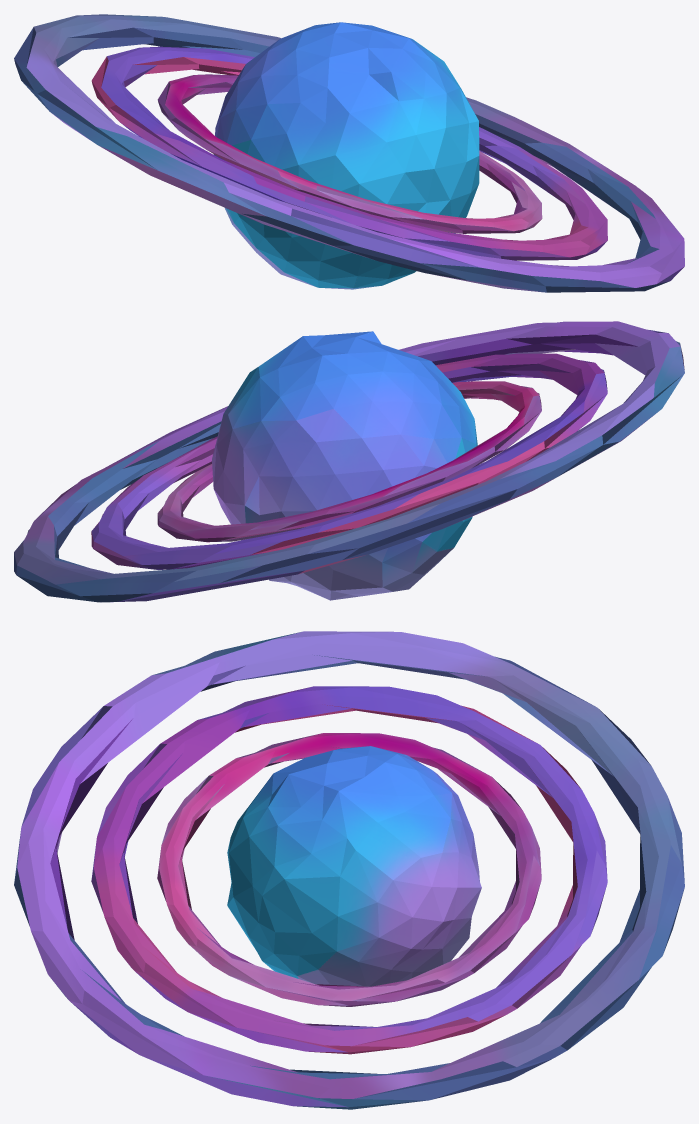
Rendered from Planet.gltf.
3 views of the same model, one above another, from view 1: azimuth 30°, elevation 25°; view 2: azimuth 150°, elevation 25°; view 3: azimuth 270°, elevation 25° (orthographic). The views are drawn at different scales.
Visible parts, largest first — view 1: Icosphere, Torus.002, Torus.001, Torus.000; view 2: Icosphere, Torus.002, Torus.001, Torus.000; view 3: Torus.002, Icosphere, Torus.001, Torus.000.
Part boxes in pixels (x1,y1,x2,y2): Icosphere: [213, 22, 479, 289]; Torus.002: [14, 14, 684, 292]; Torus.001: [91, 46, 607, 260]; Torus.000: [157, 74, 542, 233]; Icosphere: [212, 331, 477, 600]; Torus.002: [14, 321, 684, 602]; Torus.001: [91, 353, 607, 569]; Torus.000: [157, 381, 541, 542]; Torus.002: [14, 631, 684, 1109]; Icosphere: [227, 746, 481, 986]; Torus.001: [91, 686, 607, 1054]; Torus.000: [157, 733, 541, 1006].
Size of the model in its own units: 2.23 by 0.904 by 2.37.
4 materials, 4 textured.
